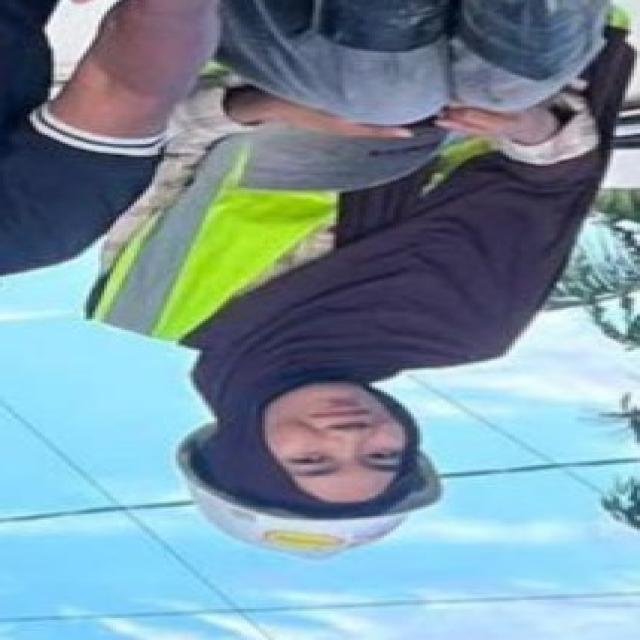safetyhelmet: (171, 378, 470, 567)
